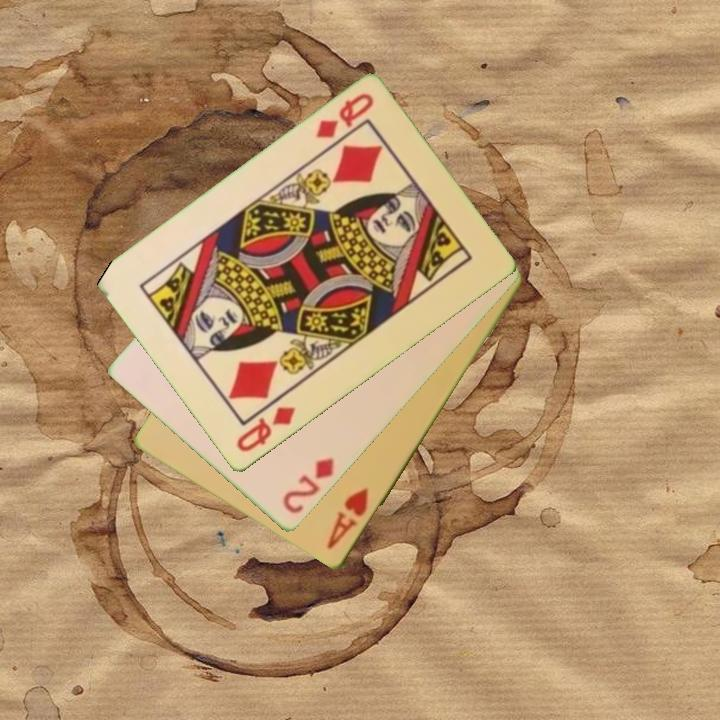2d: (279, 454, 337, 518)
Ah: (323, 484, 372, 553)
Qd: (232, 403, 298, 456), (312, 90, 377, 143)
